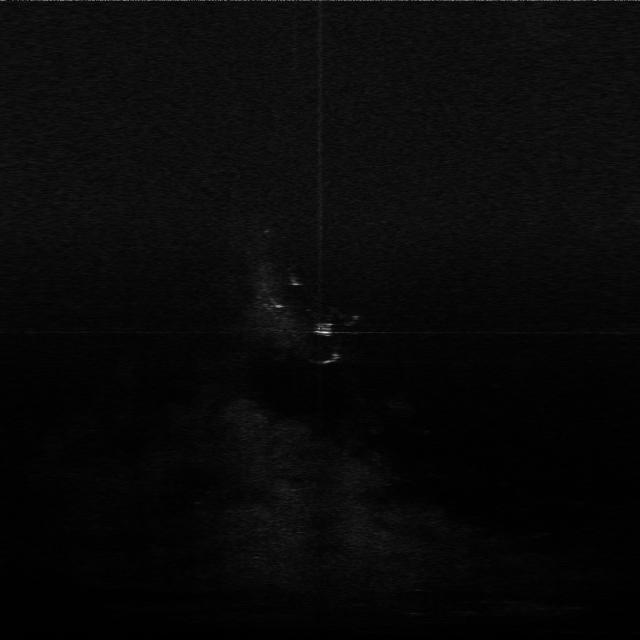rov: (310, 321, 338, 338)
